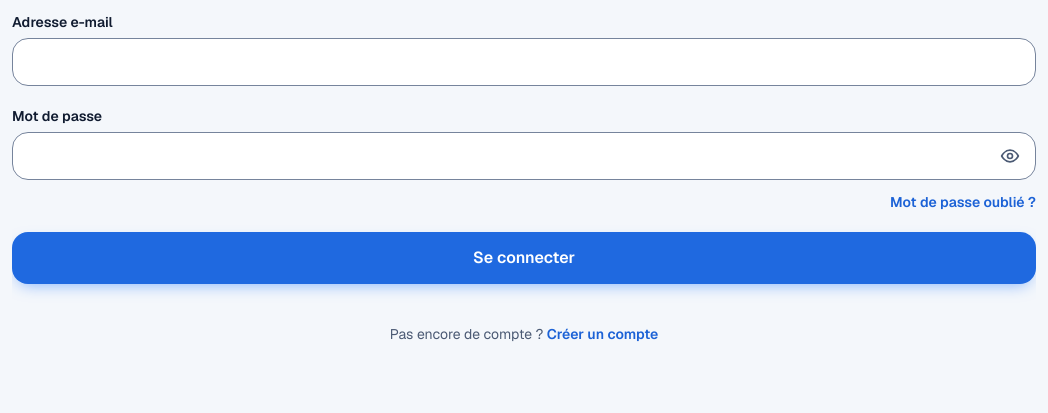
Test case: Supabase configuré › affiche l’erreur d’identifiants
This screenshot has width=1048, height=413.
Type "prenom@domaine.fr" into the field labelled "Adresse e-mail" at x=524, y=62, box x1=12 y1=38 x2=1036 y2=86
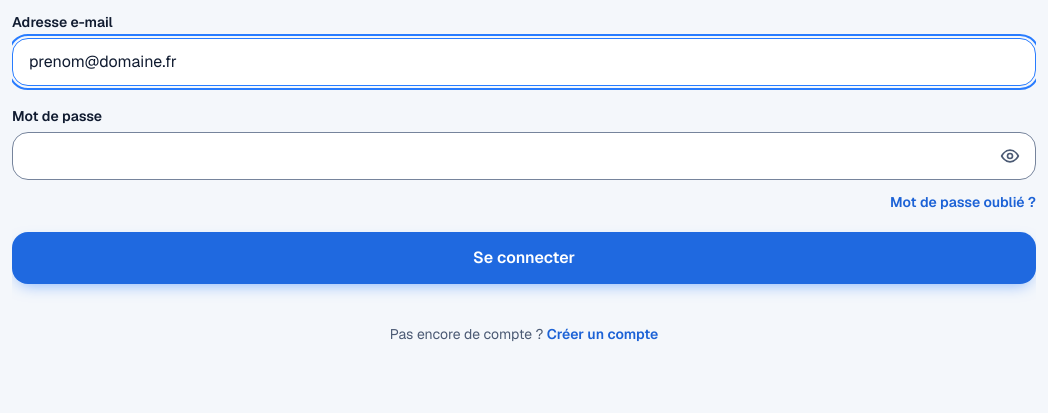
Type "secret123" into the password field labelled "Mot de passe" at x=524, y=156, box x1=12 y1=132 x2=1036 y2=180
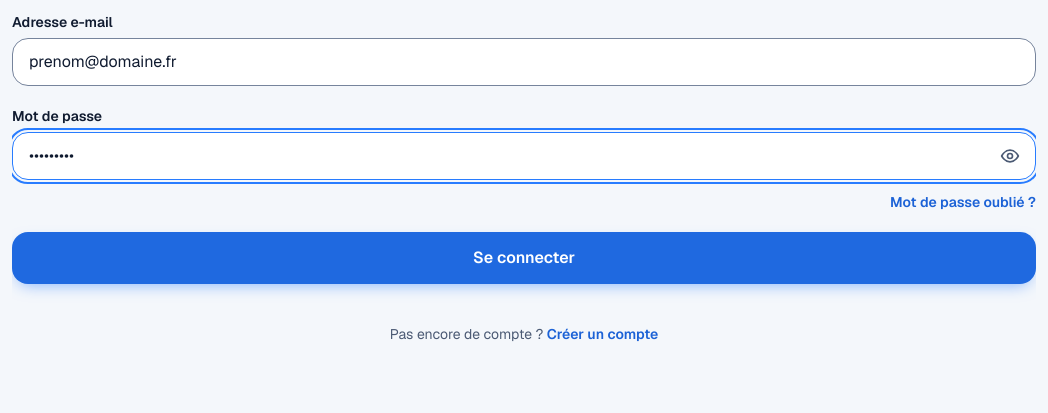
Click the button "Se connecter" at x=524, y=258, box x1=12 y1=232 x2=1036 y2=284
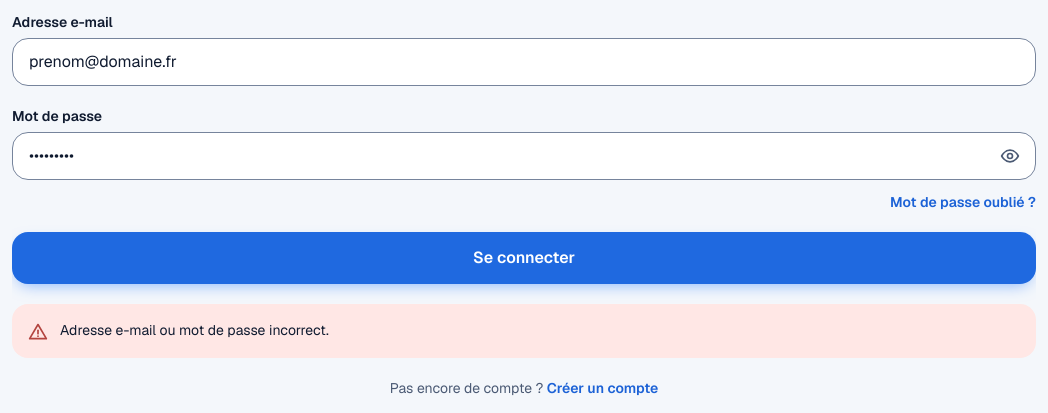
Check: the message reads "Adresse e-mail ou mot de passe incorrect.", box x1=60 y1=321 x2=329 y2=339
